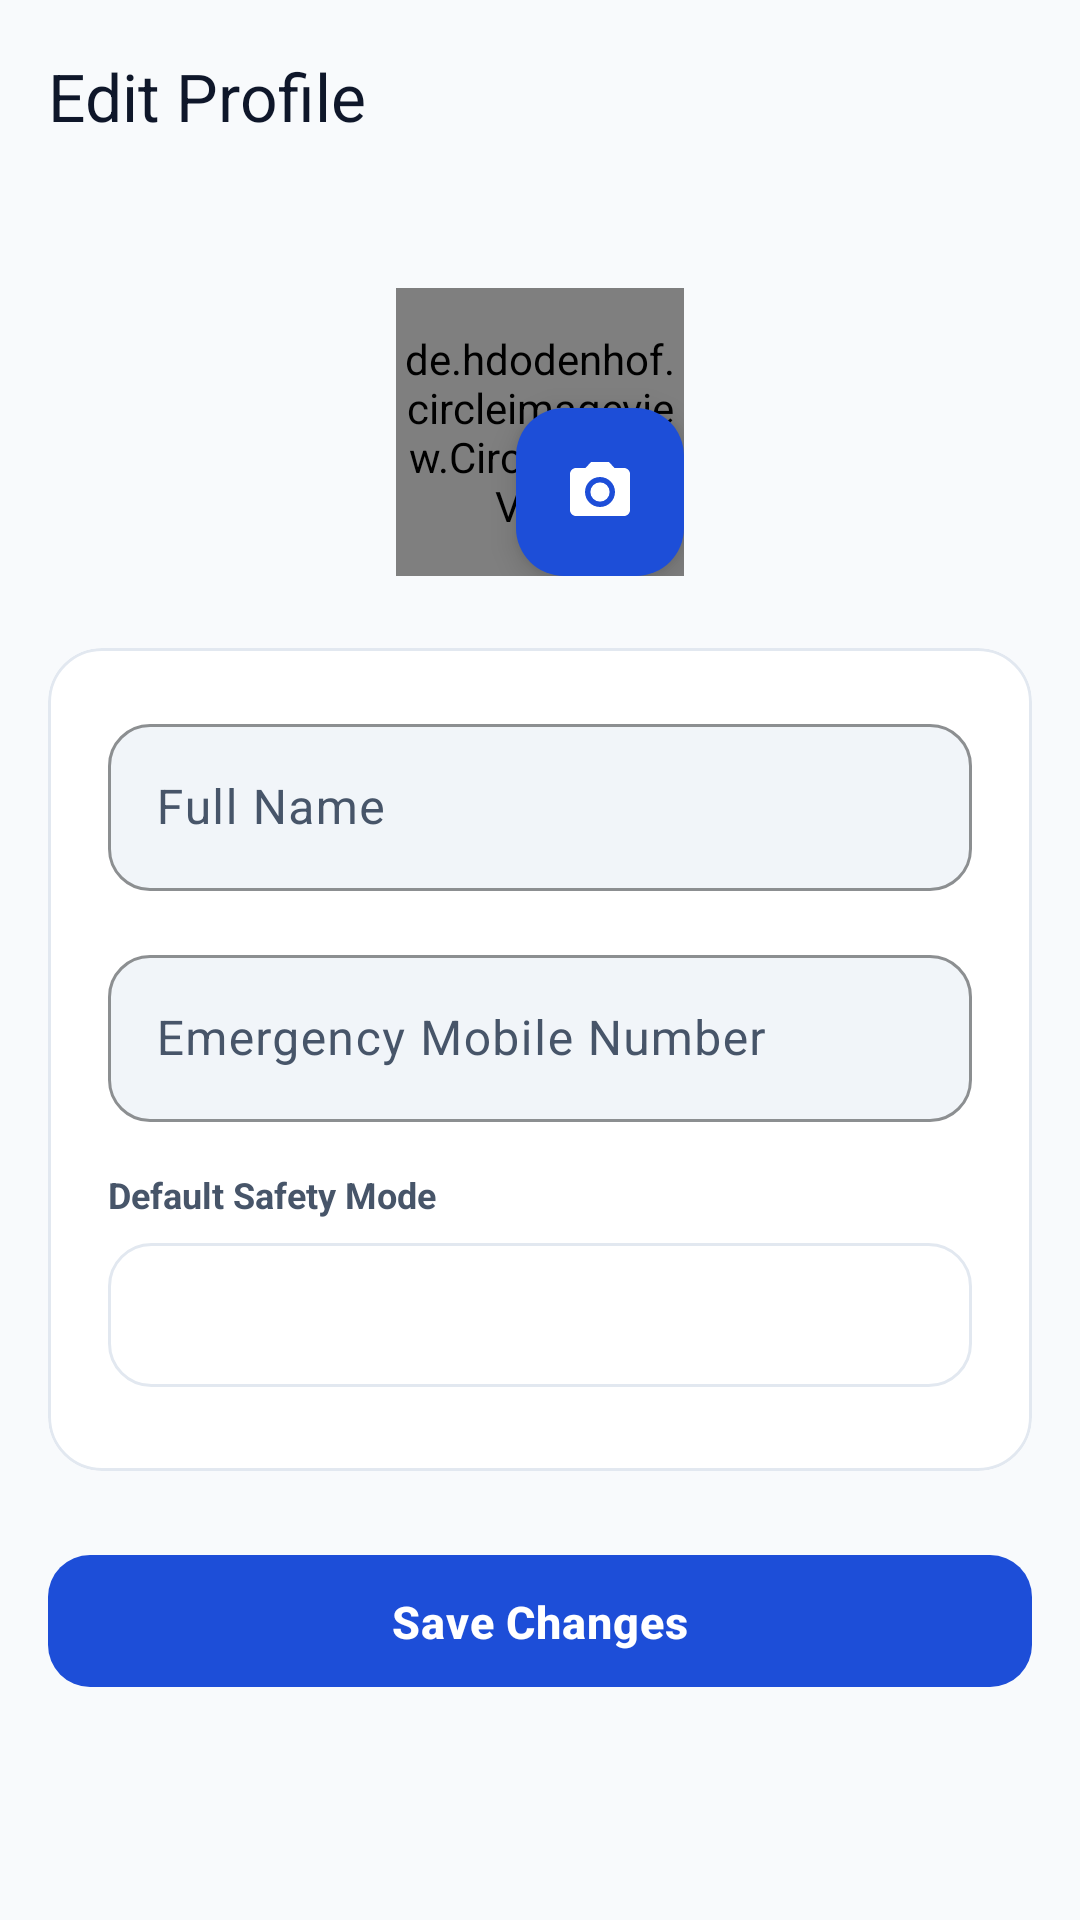

Icon click points for this 1080px×1920px phone screenshot, format (x=x, y=y):
Change Photo: (x=600, y=492)
